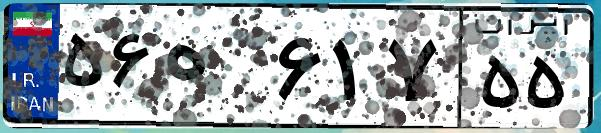1: (330, 28, 385, 110)
5: (57, 26, 110, 100), (475, 38, 525, 113), (525, 38, 570, 115)
6: (270, 28, 330, 110), (110, 28, 158, 98)
7: (385, 28, 445, 110)
ه: (158, 20, 270, 120)
